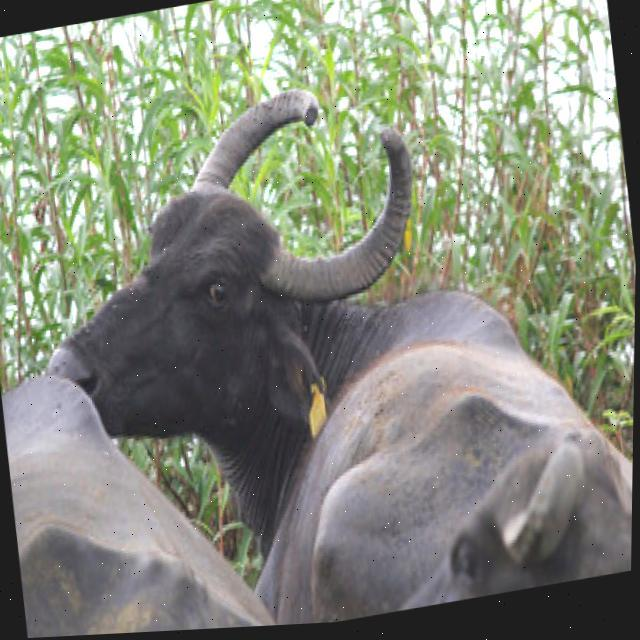Buffalo: (8, 25, 639, 639)
